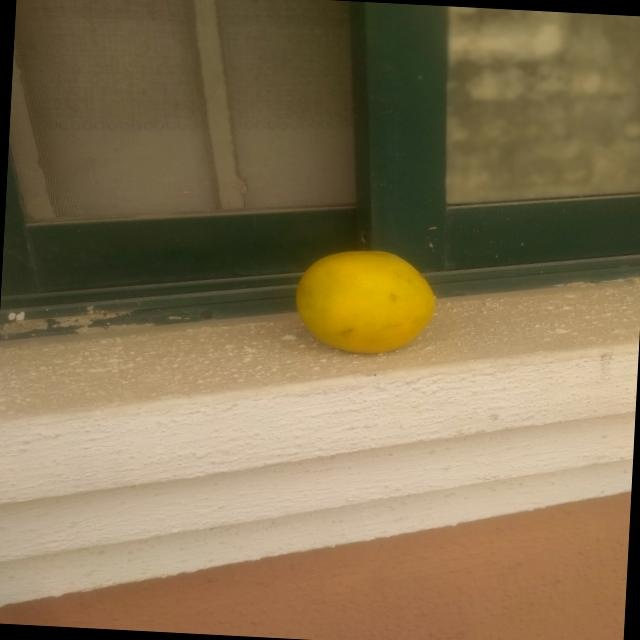agrume: (291, 242, 441, 363)
